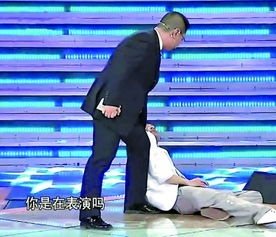falling: (132, 110, 276, 231)
